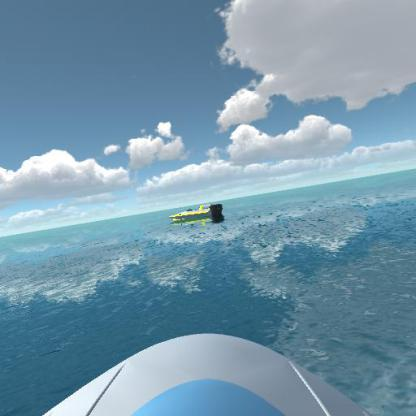usv2: (167, 198, 230, 229)
